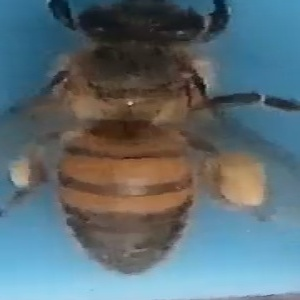bee: (10, 1, 297, 275)
